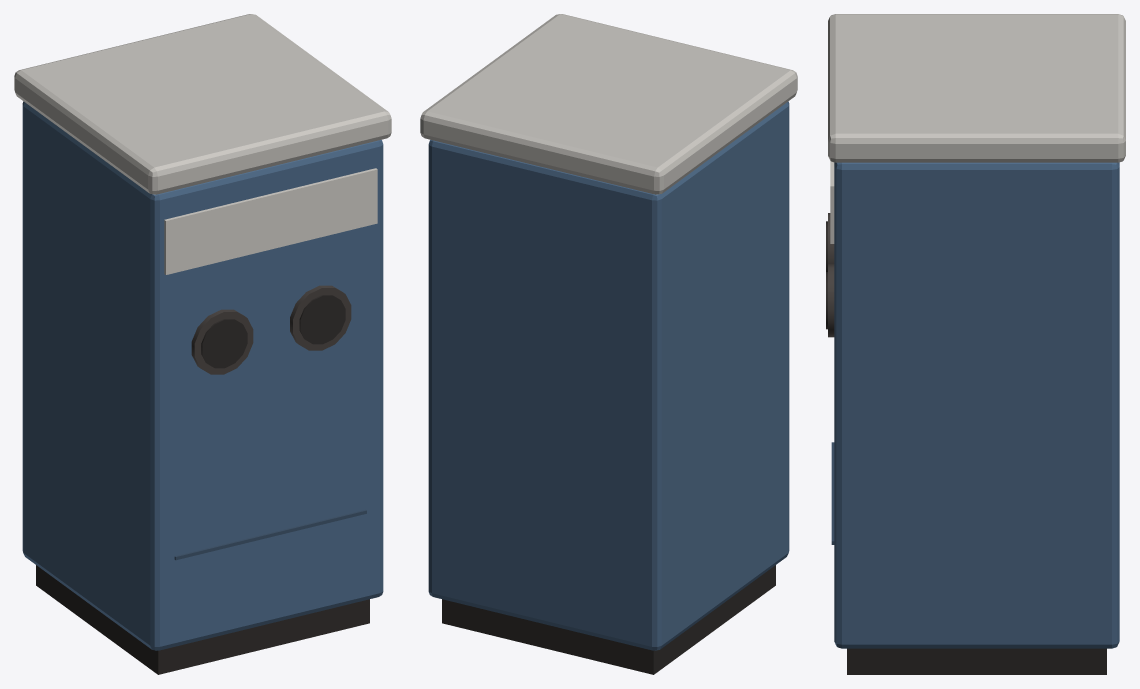
Rendered from prop_recycle_bin_01.glb.
3 renders of one model, left to right at view 1: azimuth 30°, elevation 25°; view 2: azimuth 150°, elevation 25°; view 3: azimuth 270°, elevation 25°, orthographic. The views are drawn at different scales.
Visible parts, largest first — view 1: prop_recycle_bin_01; view 2: prop_recycle_bin_01; view 3: prop_recycle_bin_01.
Part boxes in pixels (x1,y1,x2,y2): prop_recycle_bin_01: (14,14,391,674); prop_recycle_bin_01: (420,14,797,674); prop_recycle_bin_01: (826,14,1125,674).
Size of the model in its own units: 0.47 by 0.95 by 0.473.
